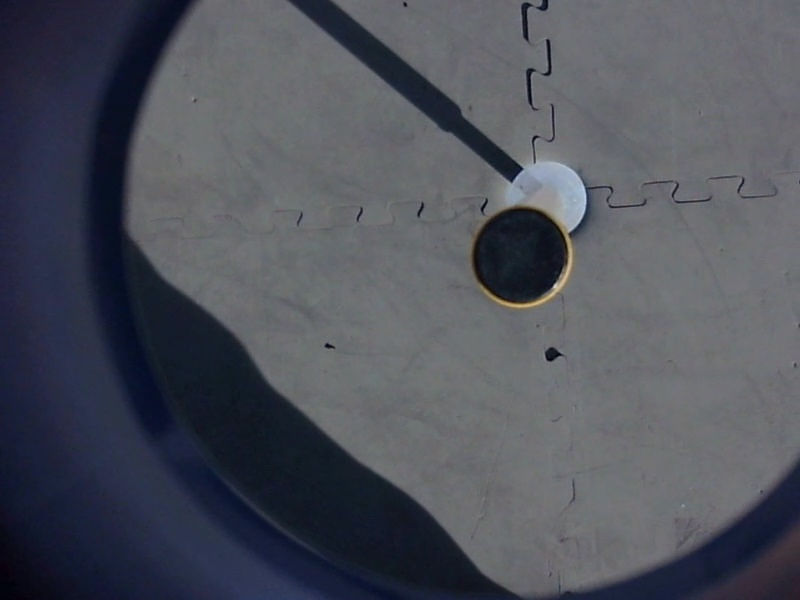tip: (460, 199, 582, 319)
